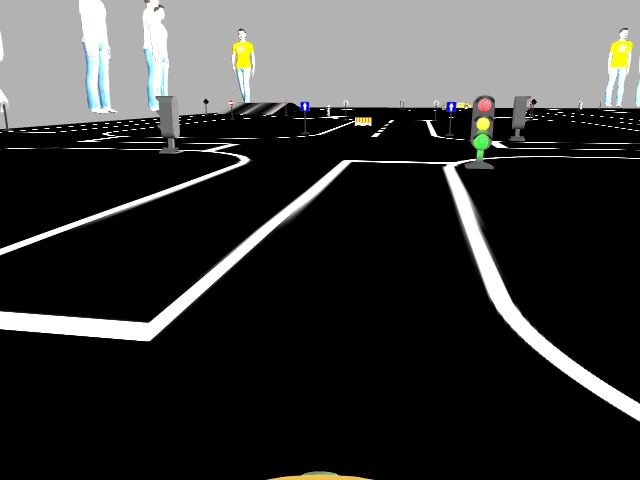ClosedRoadStand: (354, 116, 370, 125)
OneWay: (446, 100, 454, 111), (300, 101, 308, 110)
TrafficLight: (470, 96, 494, 149)
